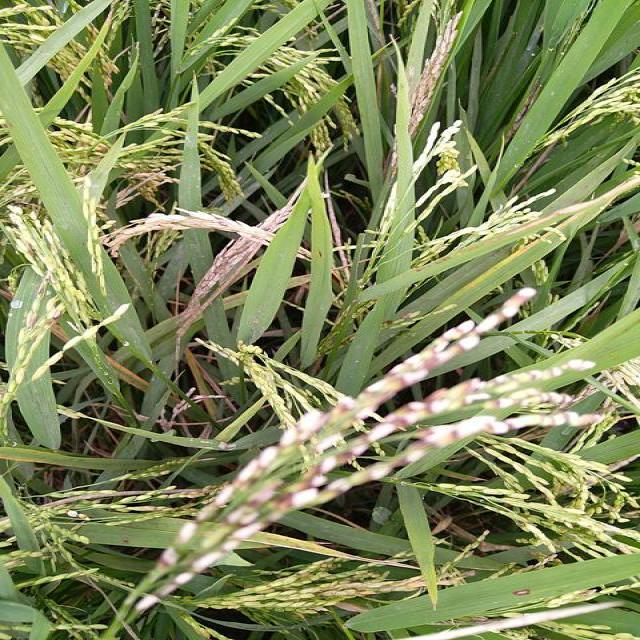Panicle Blight: (133, 290, 603, 616), (359, 576, 425, 589), (25, 303, 39, 329), (36, 280, 47, 307), (23, 248, 37, 264), (48, 309, 64, 322), (297, 569, 313, 581), (93, 144, 107, 155), (321, 590, 345, 596)
